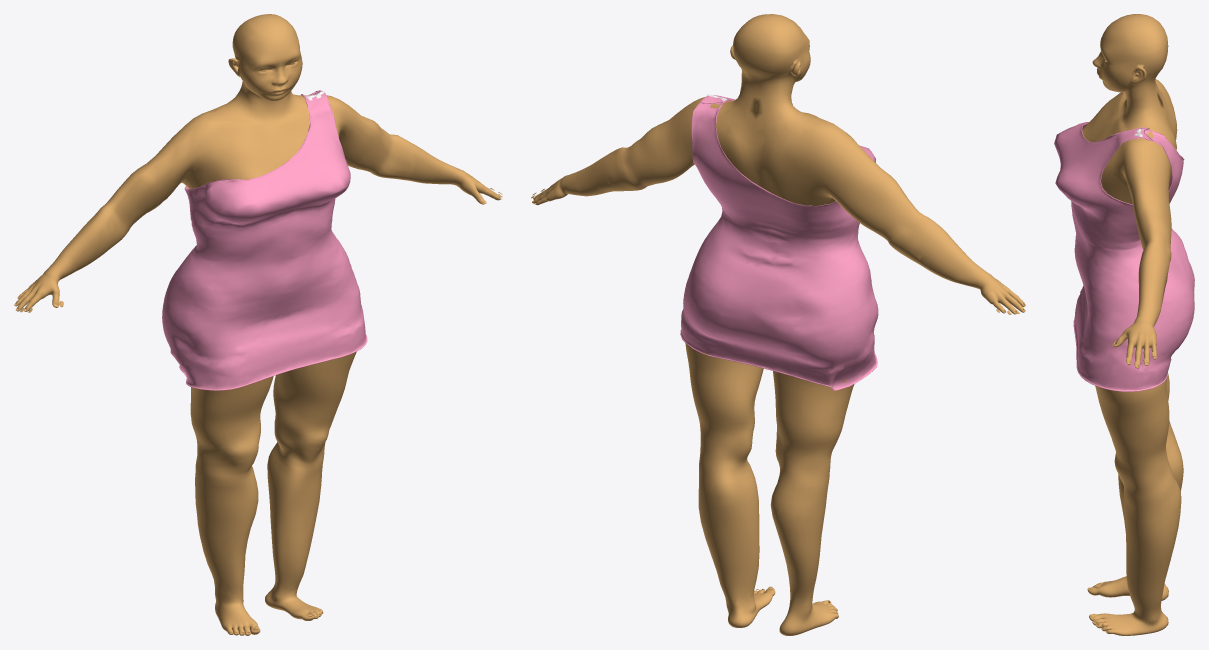
File: dress1.glb
3 views of the same model, side by side, from view 1: azimuth 30°, elevation 25°; view 2: azimuth 150°, elevation 25°; view 3: azimuth 270°, elevation 25° (orthographic).
Parts seen in each view (by area): view 1: Body, WhiteDress; view 2: Body, WhiteDress; view 3: Body, WhiteDress.
Part boxes in pixels (box(x1,y1,x2,y2)): Body: box(14, 14, 501, 635); WhiteDress: box(162, 90, 367, 390); Body: box(532, 14, 1025, 635); WhiteDress: box(680, 94, 878, 390); Body: box(1082, 14, 1183, 635); WhiteDress: box(1054, 122, 1194, 391).
Size of the model in its own units: 1.59 by 1.88 by 0.3984.
